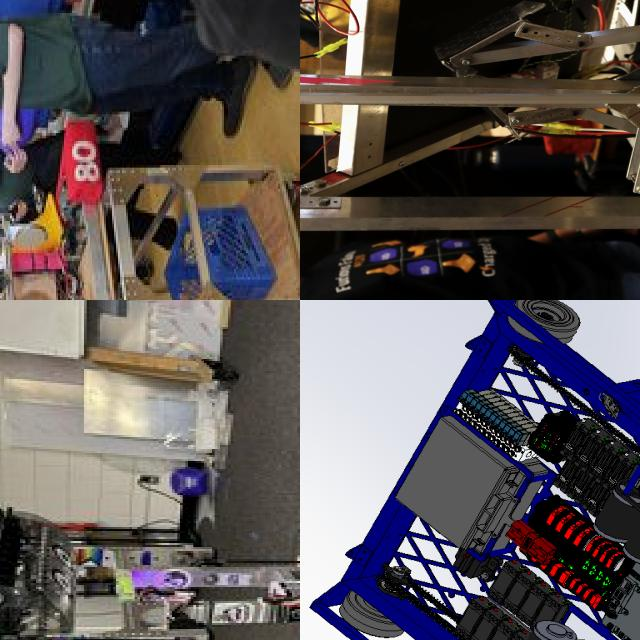FRC-Robots: (312, 300, 640, 640), (300, 0, 640, 300), (0, 376, 300, 640), (0, 101, 148, 300)
